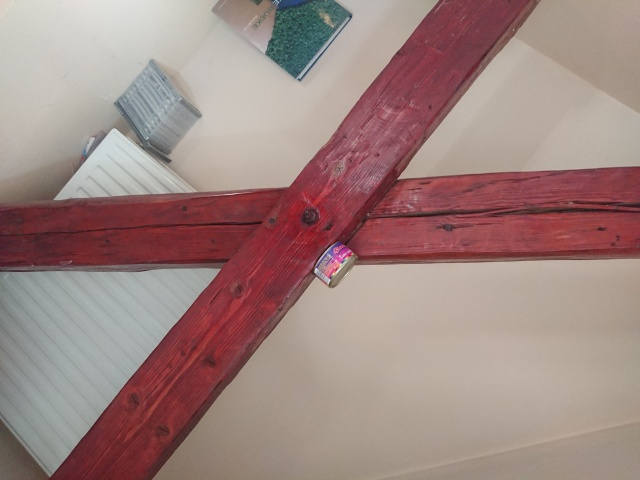Giana Tuna Salad Mexico 185g: (311, 239, 360, 290)
